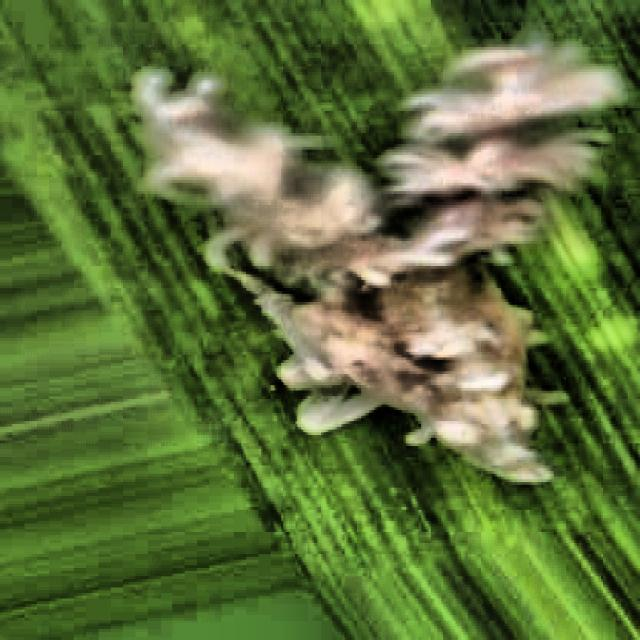Pyrilla-perpusilla: (108, 5, 639, 640)
